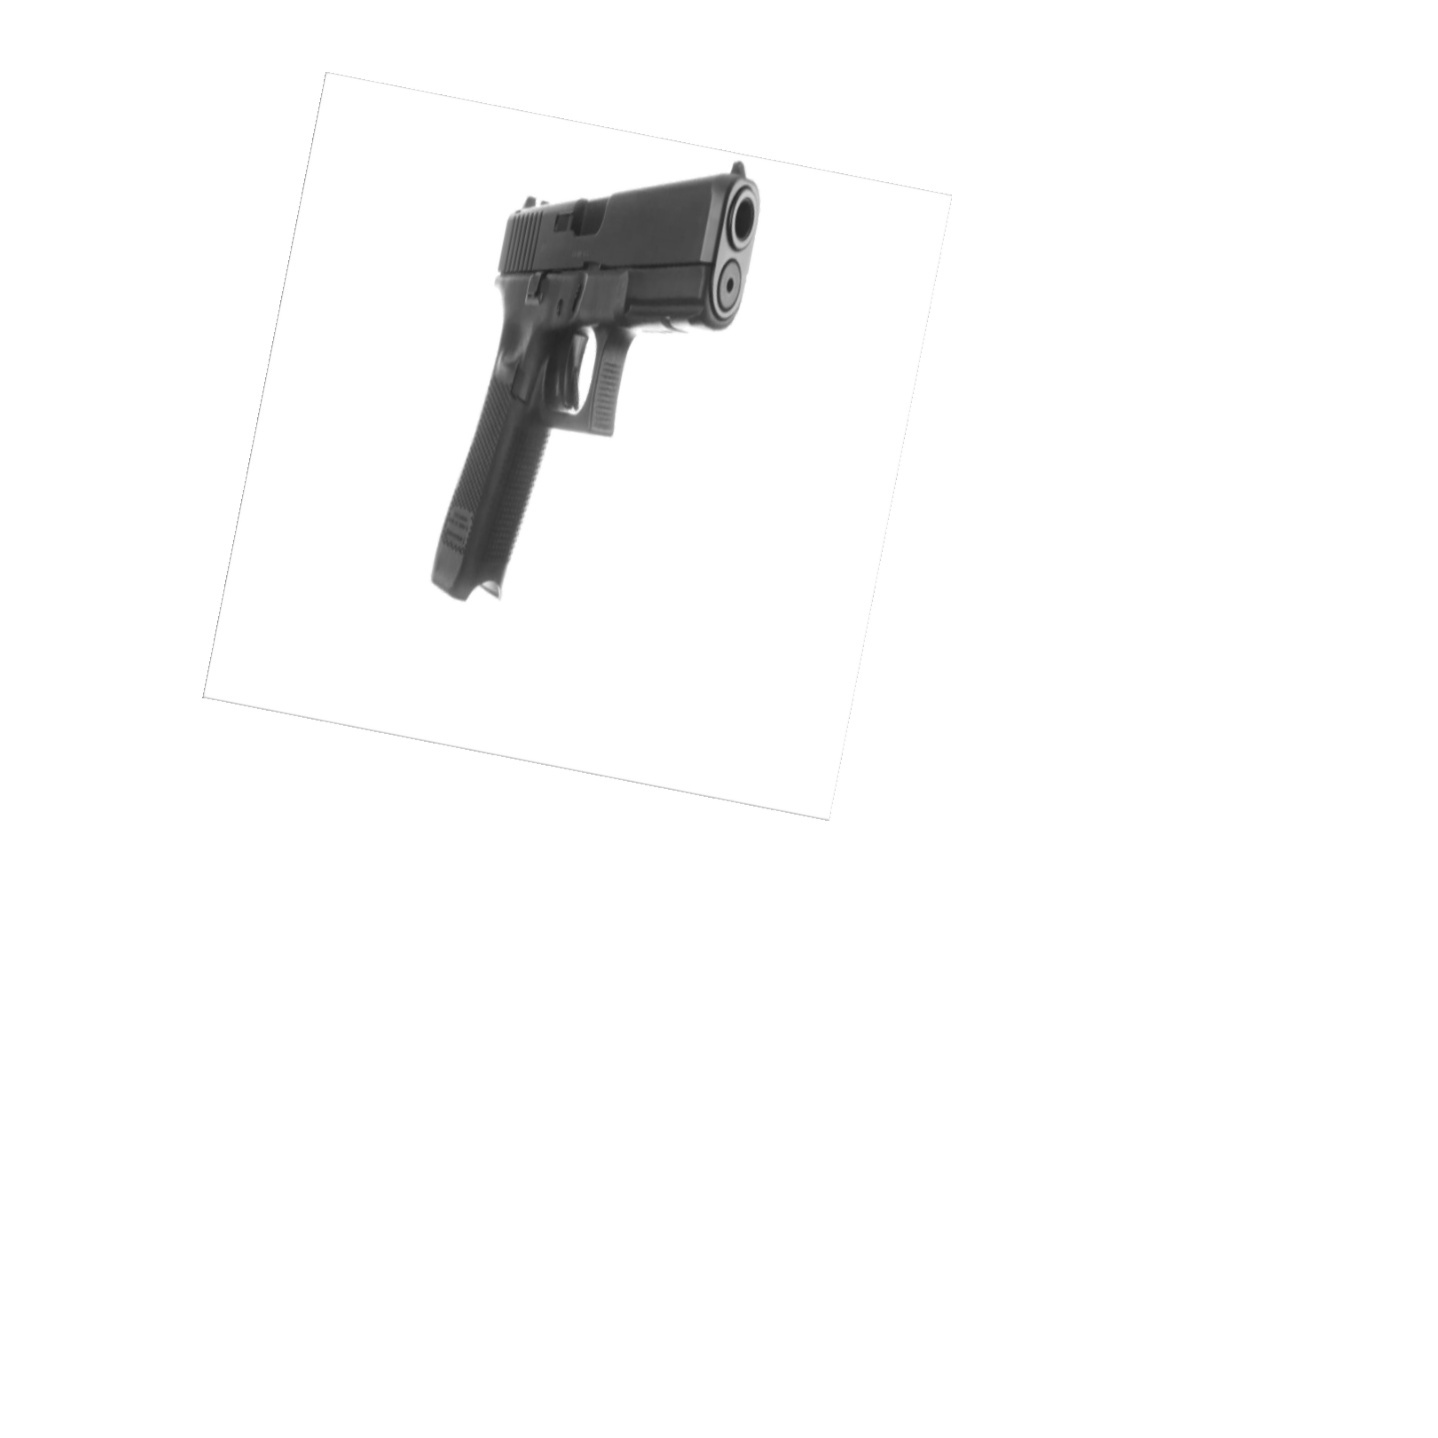gun: (420, 158, 762, 606)
